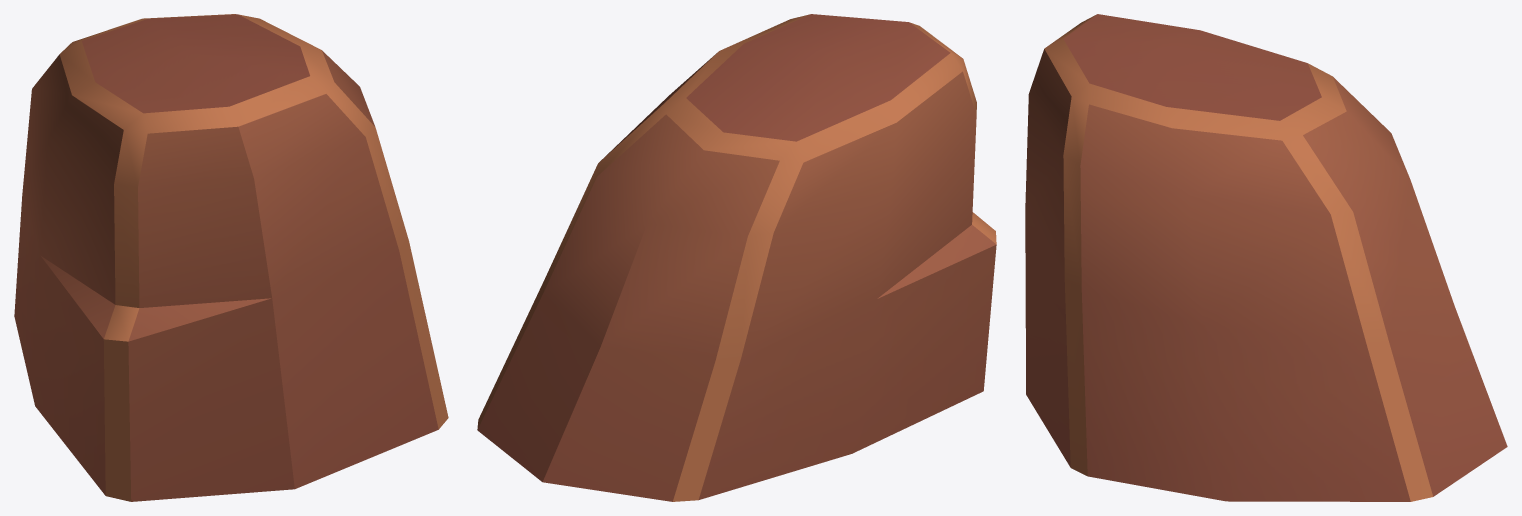
Rendered from Rock-2-2.fbx.
3 renders of one model, left to right at view 1: azimuth 30°, elevation 25°; view 2: azimuth 150°, elevation 25°; view 3: azimuth 270°, elevation 25°, orthographic. The views are drawn at different scales.
Visible parts, largest first — view 1: Rock-2-2; view 2: Rock-2-2; view 3: Rock-2-2.
Boxes of the visible parts, x1,y1,x2,y2 form: Rock-2-2: [14, 14, 448, 501]; Rock-2-2: [477, 14, 996, 501]; Rock-2-2: [1025, 14, 1507, 501].
Bounding box in the file's own units: 109 × 97.99 × 126.
